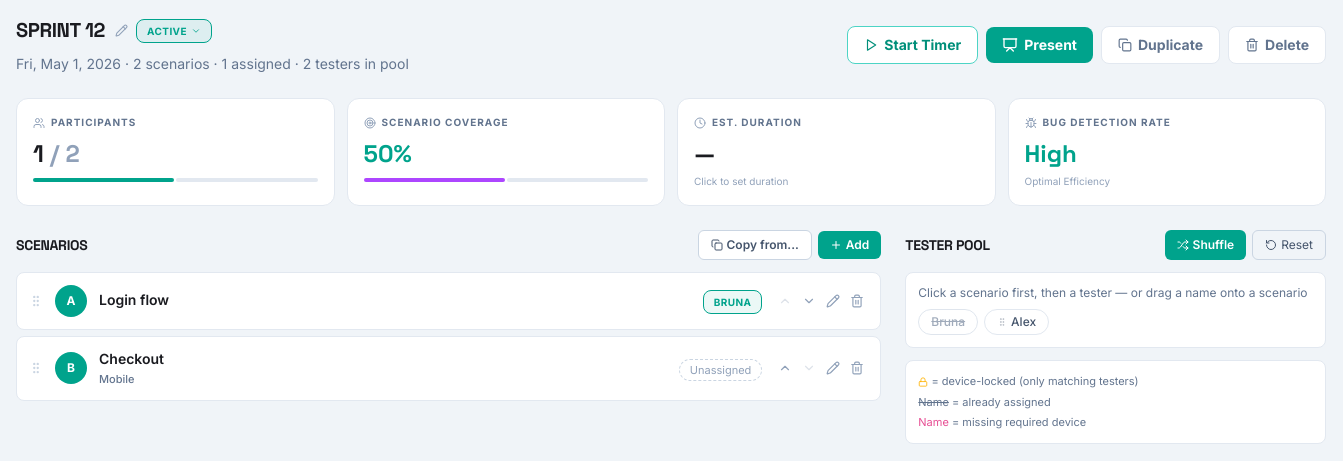
SessionSetupPage › pressing Escape cancels title edit
Check: the heading "Sprint 12" is shown, box [16,16,105,44]
Click the element titled "Click to edit title": (72,30) [16,16,128,44]
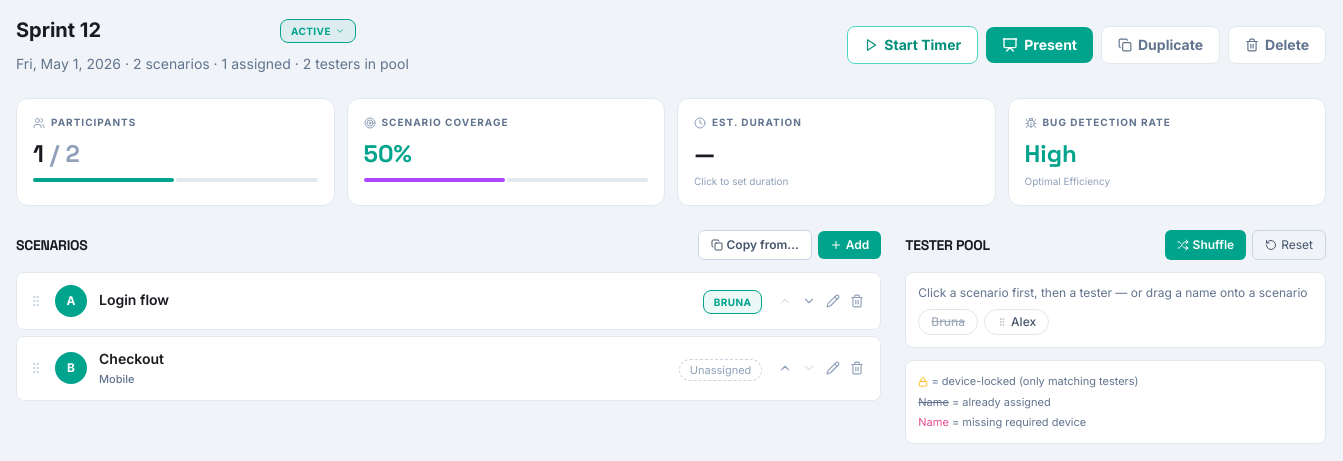
Replace the text in the field showing "Sprint 12" with "Changed": (144,30) [16,16,272,44]
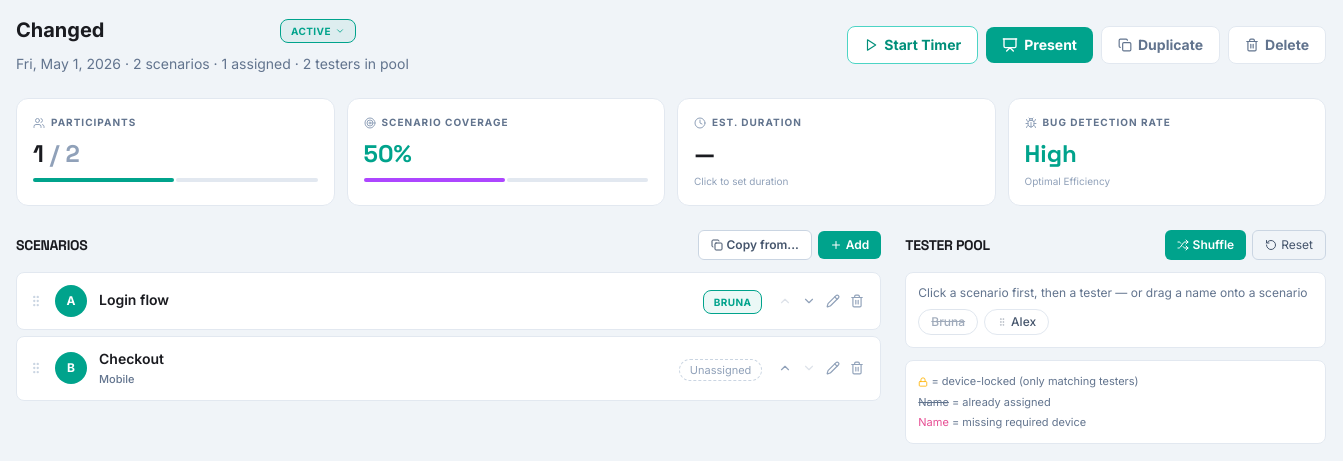
Press Escape in the field showing "Sprint 12", box [16,16,272,44]
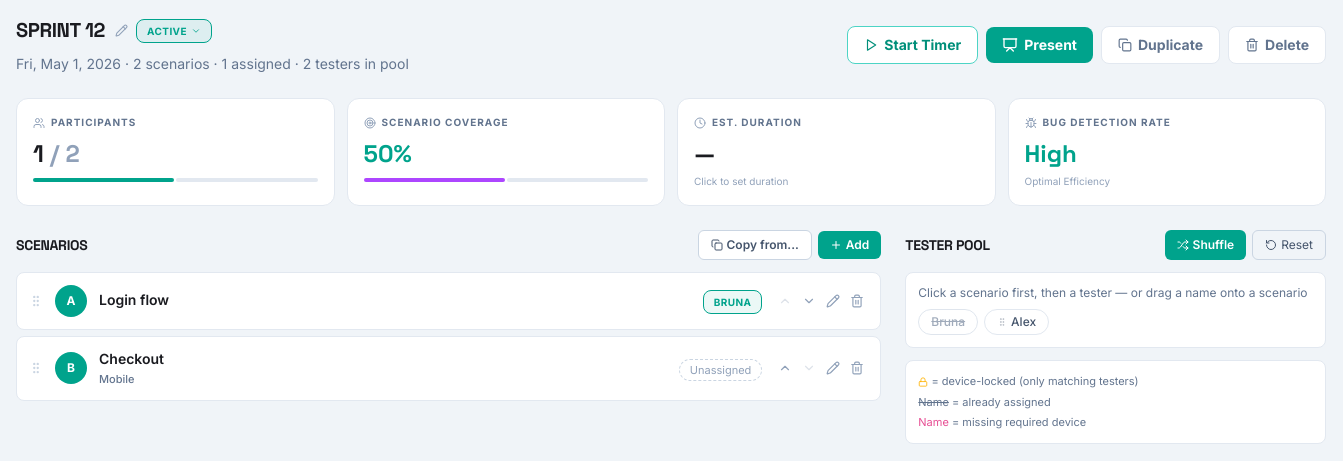
Check: the heading "Sprint 12" is shown, box [16,16,105,44]
